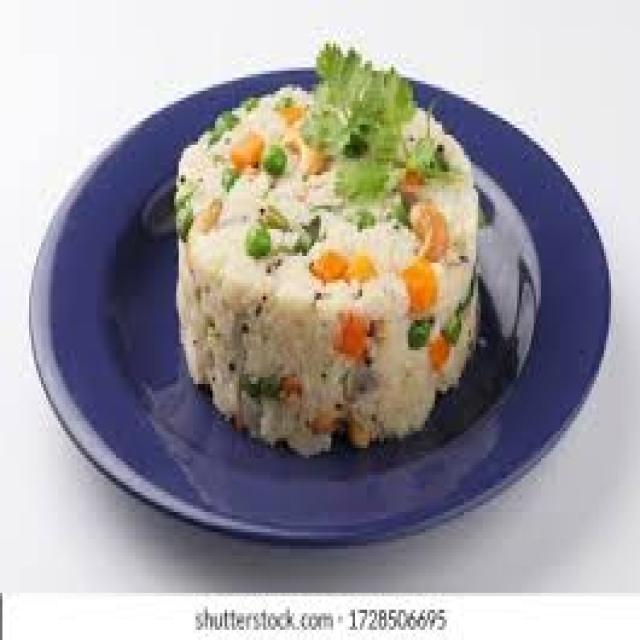UPMA: (174, 44, 476, 448)
